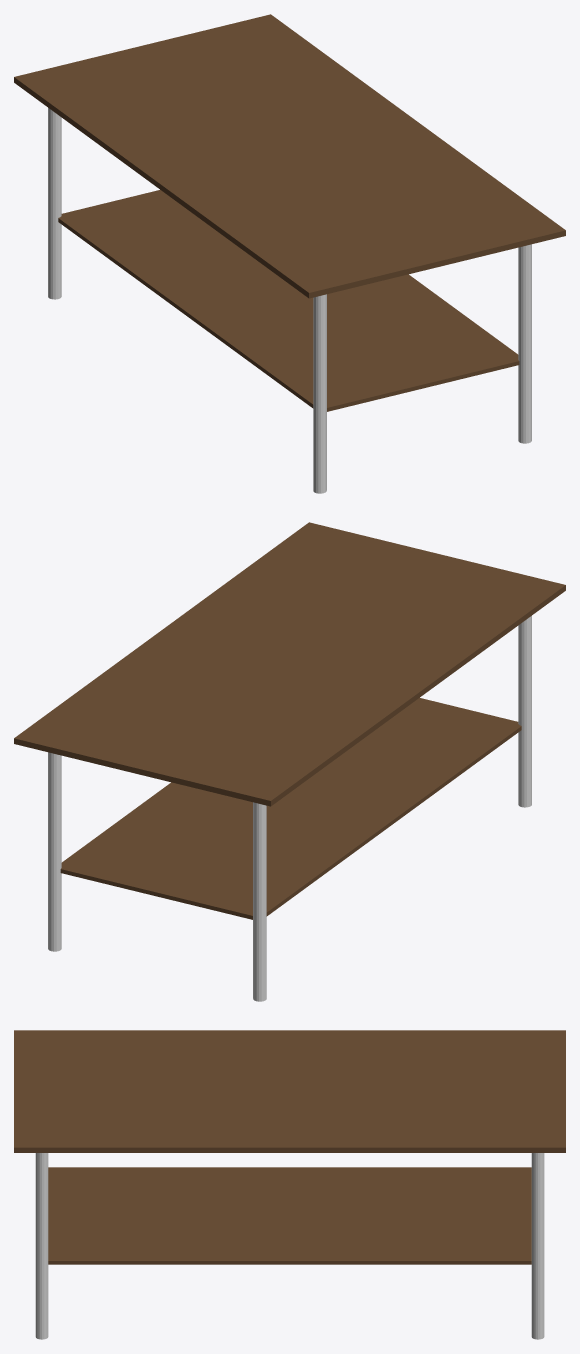
The model's file is table-big.glb.
3 renders of one model, top to bottom at view 1: azimuth 30°, elevation 25°; view 2: azimuth 150°, elevation 25°; view 3: azimuth 270°, elevation 25°, orthographic. The views are drawn at different scales.
Visible parts, largest first — view 1: Generic_Table_Wood; view 2: Generic_Table_Wood; view 3: Generic_Table_Wood.
Boxes of the visible parts, <box> form: Generic_Table_Wood: <box>14,14,565,493</box>; Generic_Table_Wood: <box>14,522,565,1001</box>; Generic_Table_Wood: <box>14,1030,565,1339</box>.
Bounding box in the file's own units: 1.18 × 0.9434 × 2.35.
